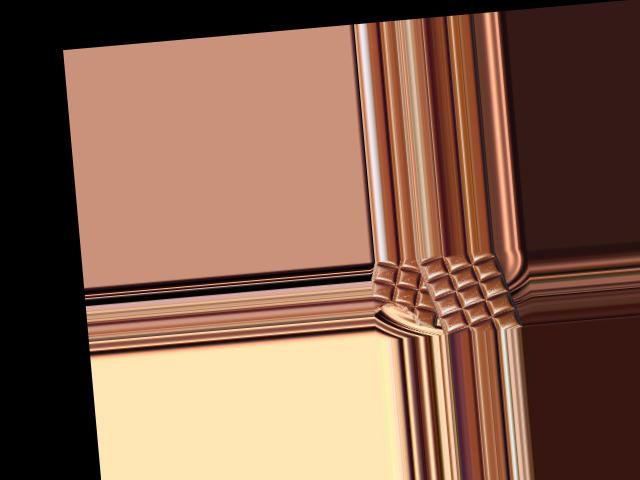chocolate: (414, 248, 524, 335)
